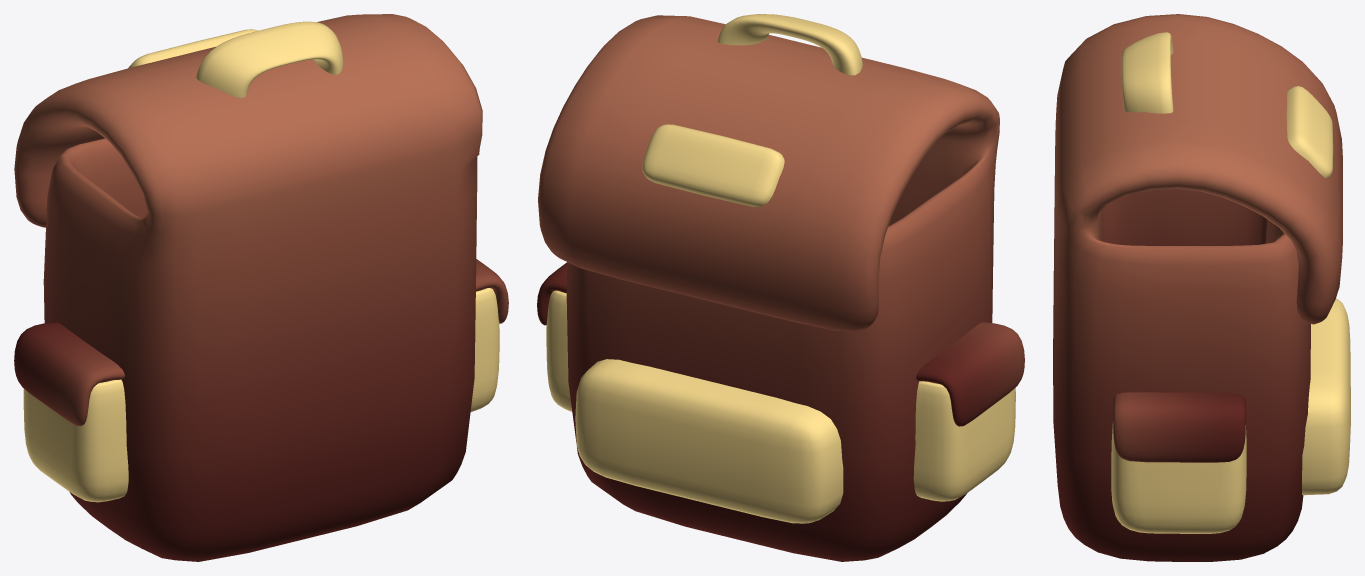
The model's file is Player_Backpag2.fbx.
3 views of the same model, side by side, from view 1: azimuth 30°, elevation 25°; view 2: azimuth 150°, elevation 25°; view 3: azimuth 270°, elevation 25° (orthographic). The views are drawn at different scales.
Visible parts, largest first — view 1: Player_Backpag_Wine; view 2: Player_Backpag_Wine; view 3: Player_Backpag_Wine.
Boxes of the visible parts, bbox=[...] form: Player_Backpag_Wine: bbox=[14, 14, 508, 561]; Player_Backpag_Wine: bbox=[537, 14, 1024, 561]; Player_Backpag_Wine: bbox=[1053, 14, 1350, 561].
Bounding box in the file's own units: 1.15 × 1.25 × 0.7214.
